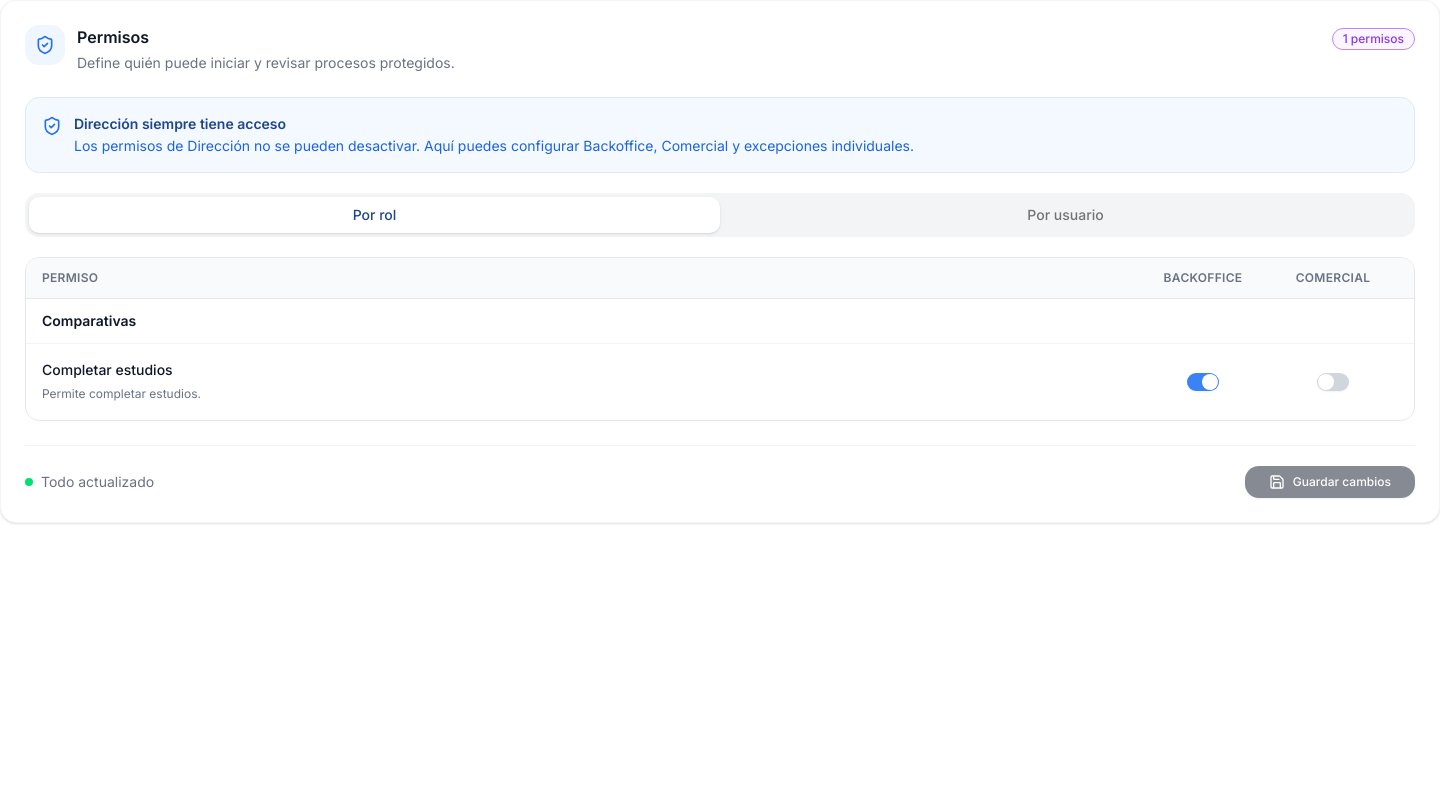
Test case: PermissionsSection › renders only the tenant catalog without exposing hidden AI permissions
expect the text "Completar estudios" is shown: met, box [42,361,173,378]
expect the number of switches is 2: met, box [1187,373,1219,391]; [1317,373,1349,391]
Click the tab "Por usuario": (1066, 215) [720,197,1411,233]
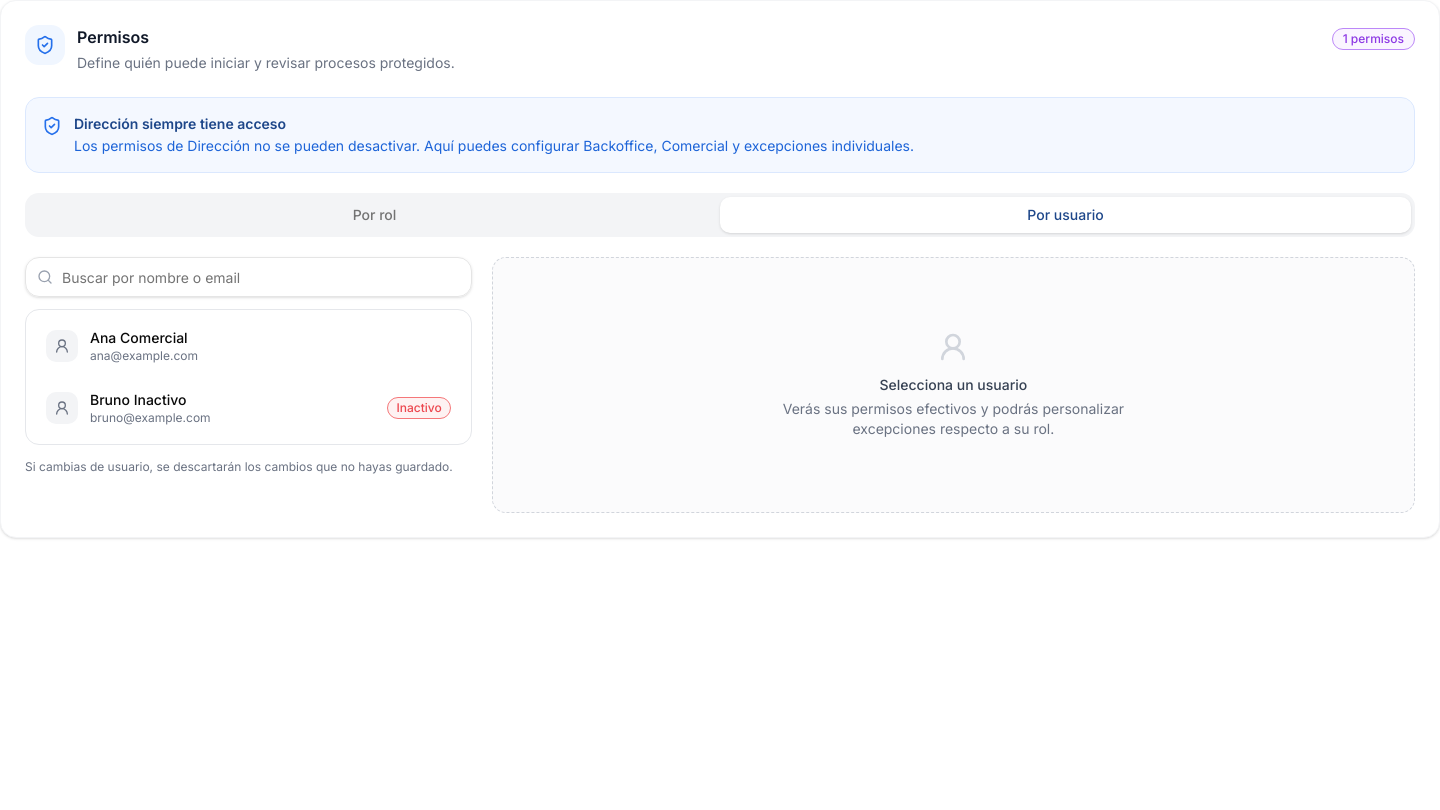
Click the button "Ana Comercial ana@example.com": (62, 346) [34,318,463,374]
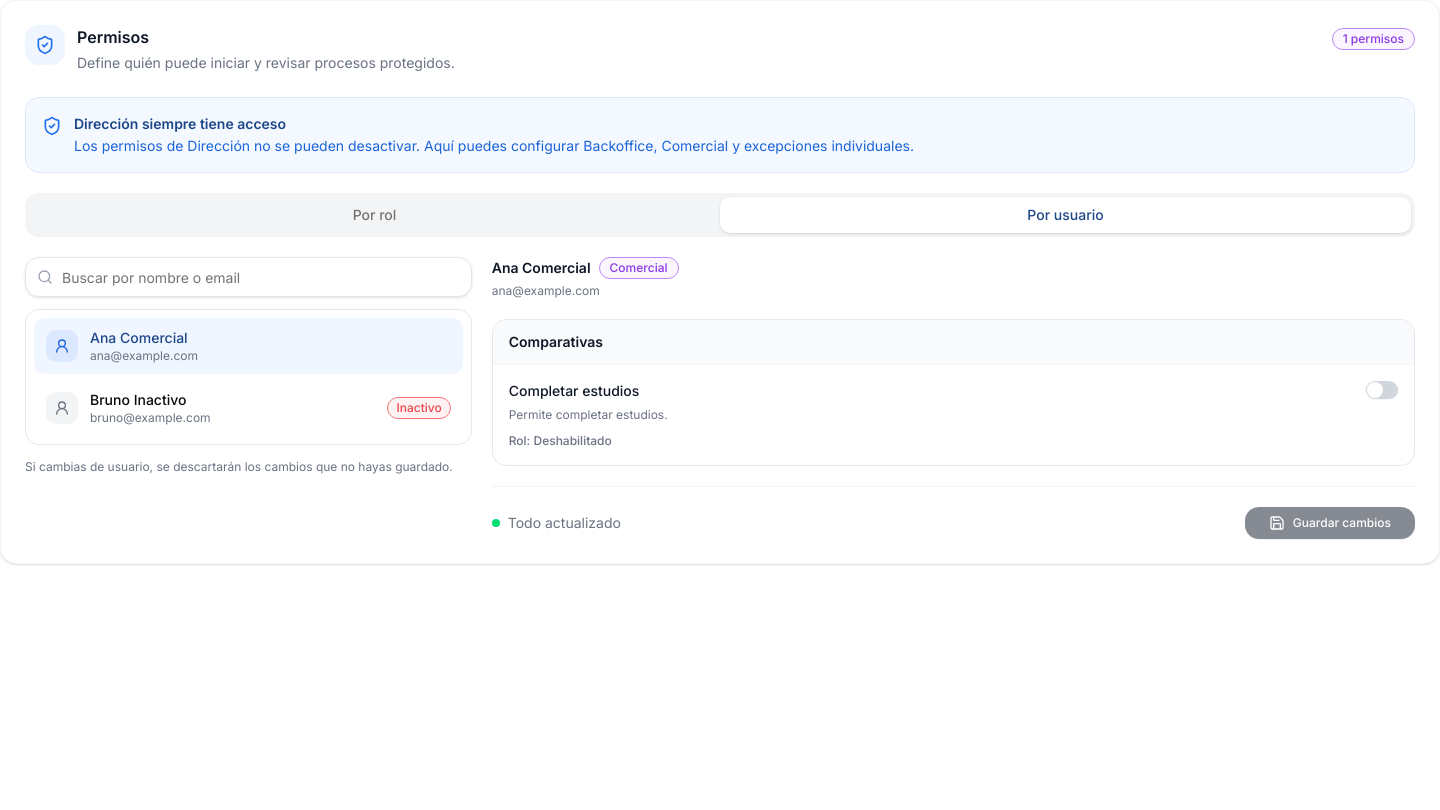
expect the text "Completar estudios" is shown: met, box [509,381,639,401]
expect the number of switches is 1: met, box [1366,381,1398,399]
